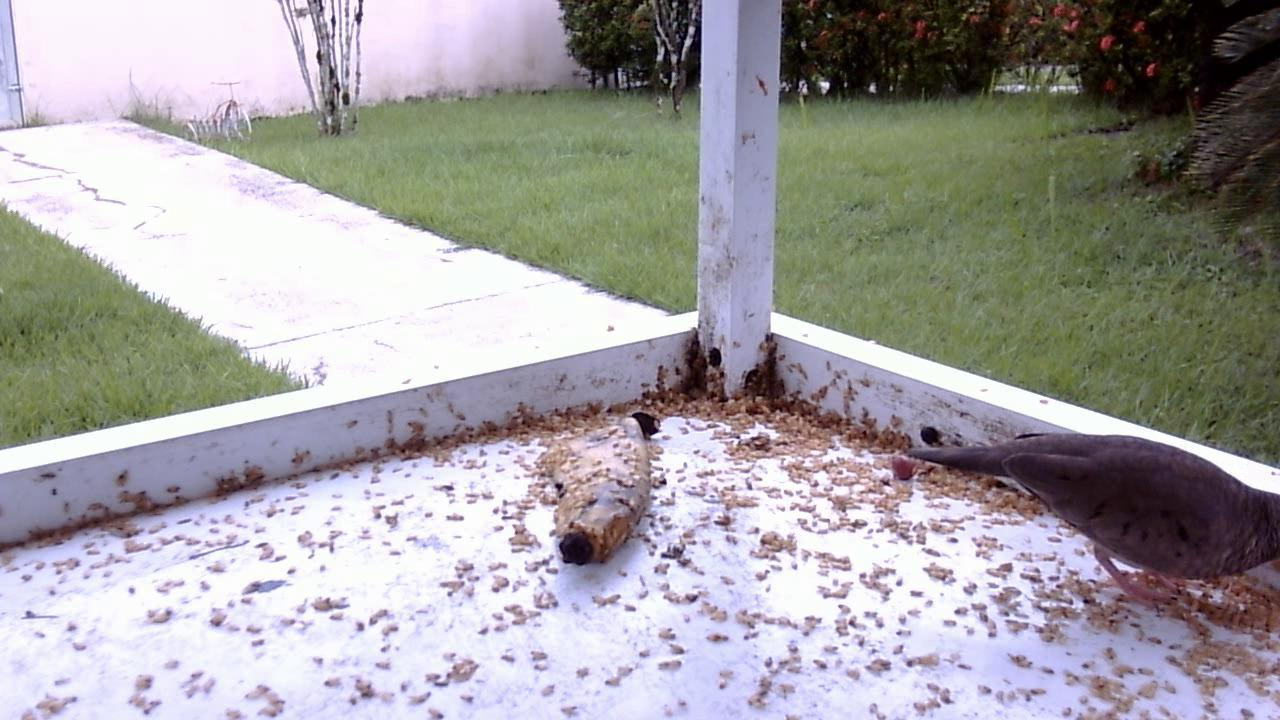rolinha: (879, 404, 1273, 623)
